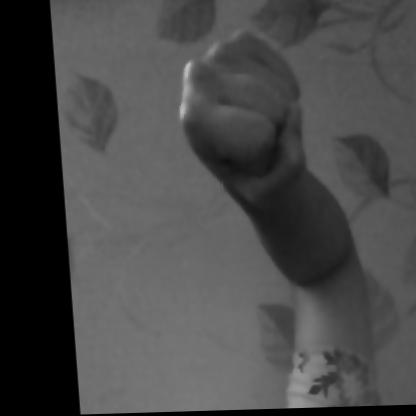fist: (120, 33, 389, 361)
